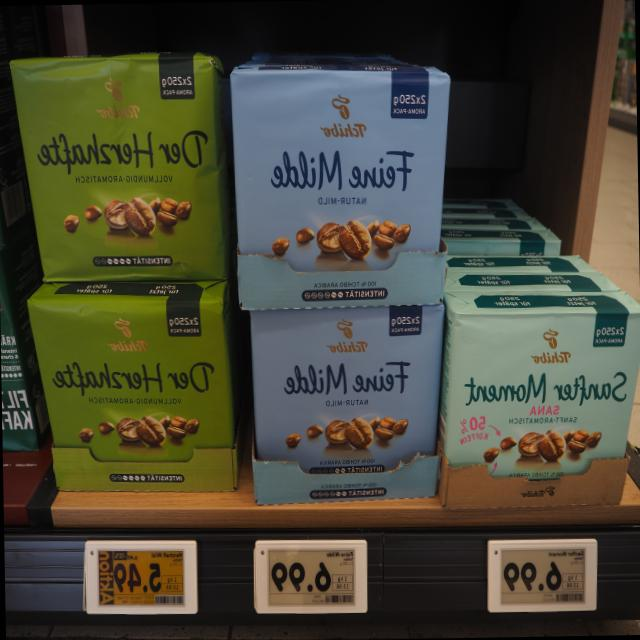Empty Shelf: (444, 78, 639, 309)
FM Gemahlen: (229, 69, 452, 314), (247, 303, 444, 505)
Herzhatfe Mundig: (6, 46, 226, 284), (24, 297, 237, 497)
SM Gemahlen: (437, 303, 639, 498)
